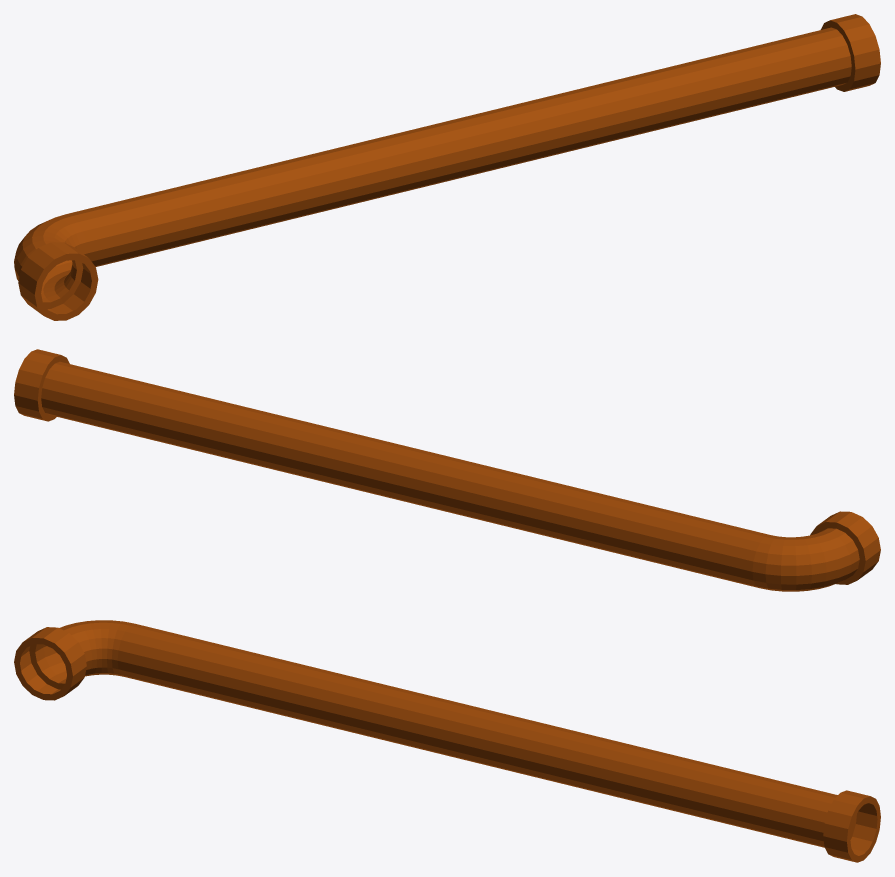
Rendered from Pipe7.fbx.
3 renders of one model, top to bottom at view 1: azimuth 30°, elevation 25°; view 2: azimuth 150°, elevation 25°; view 3: azimuth 330°, elevation 25°, orthographic. The views are drawn at different scales.
Visible parts, largest first — view 1: Plane; view 2: Plane; view 3: Plane.
Part boxes in pixels (x1=…): Plane: x1=14, y1=14, x2=880, y2=320; Plane: x1=14, y1=349, x2=880, y2=591; Plane: x1=14, y1=620, x2=880, y2=862.
Bounding box in the file's own units: 1713 × 125 × 213.
